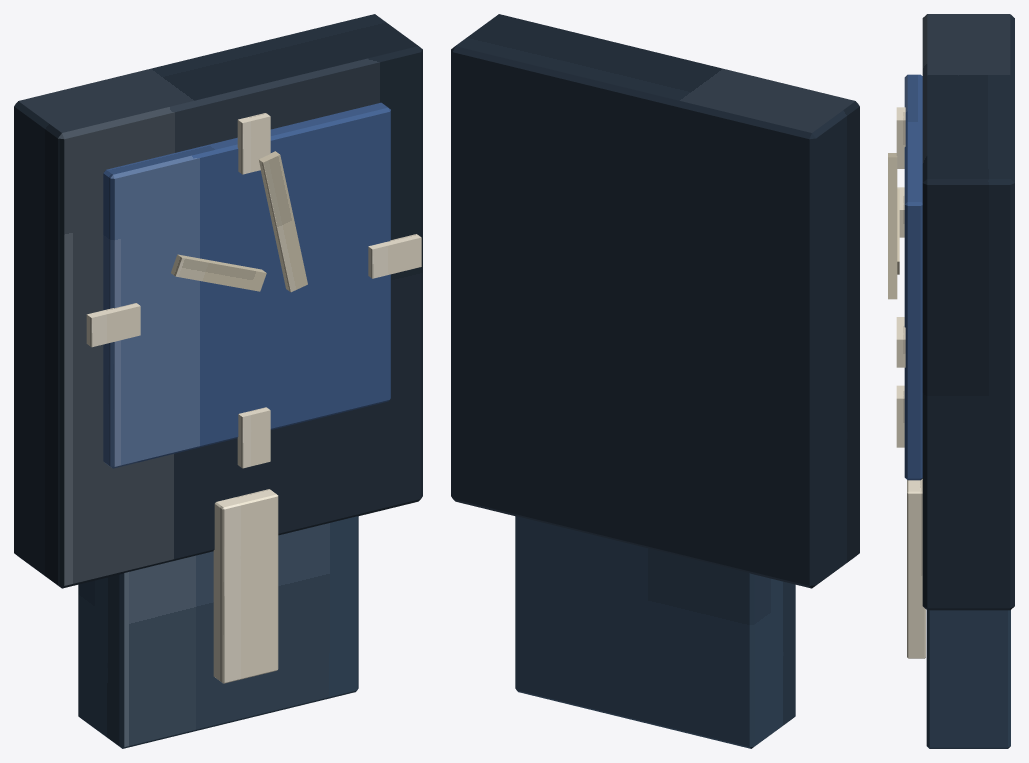
Rendered from bedroom_wall_clock_navy.glb.
3 renders of one model, left to right at view 1: azimuth 30°, elevation 25°; view 2: azimuth 150°, elevation 25°; view 3: azimuth 270°, elevation 25°, orthographic. The views are drawn at different scales.
Parts seen in each view (by area): view 1: ClockBack, ClockFace, ClockPendulumCase, ClockPendulum, ClockHandMinute, ClockHandHour, ClockMarker_-0.2_1.45, ClockMarker_0.0_1.25, ClockMarker_0.2_1.45, ClockMarker_0.0_1.65; view 2: ClockBack, ClockPendulumCase; view 3: ClockBack, ClockPendulumCase, ClockFace, ClockPendulum, ClockHandMinute, ClockMarker_0.0_1.65, ClockMarker_0.0_1.25, ClockMarker_0.2_1.45, ClockMarker_-0.2_1.45, ClockHandHour.
Part boxes in pixels (box(x1,y1,x2,y2)): ClockBack: box(14, 14, 422, 588); ClockFace: box(103, 102, 390, 468); ClockPendulumCase: box(78, 516, 358, 748); ClockPendulum: box(213, 489, 278, 683); ClockHandMinute: box(258, 151, 307, 292); ClockHandHour: box(171, 254, 266, 291); ClockMarker_-0.2_1.45: box(86, 303, 140, 347); ClockMarker_0.0_1.25: box(237, 407, 270, 468); ClockMarker_0.2_1.45: box(368, 234, 421, 278); ClockMarker_0.0_1.65: box(237, 113, 270, 174); ClockBack: box(451, 14, 859, 588); ClockPendulumCase: box(515, 516, 795, 748); ClockBack: box(922, 14, 1014, 610); ClockPendulumCase: box(926, 610, 1010, 748); ClockFace: box(904, 74, 922, 480); ClockPendulum: box(907, 479, 925, 658); ClockHandMinute: box(888, 153, 897, 299); ClockMarker_0.0_1.65: box(896, 107, 905, 168); ClockMarker_0.0_1.25: box(896, 385, 904, 447); ClockMarker_0.2_1.45: box(896, 317, 905, 367); ClockMarker_-0.2_1.45: box(897, 187, 904, 237); ClockHandHour: box(897, 188, 899, 274).
Size of the model in its own units: 0.52 by 0.86 by 0.165.
1 material, 1 textured.
